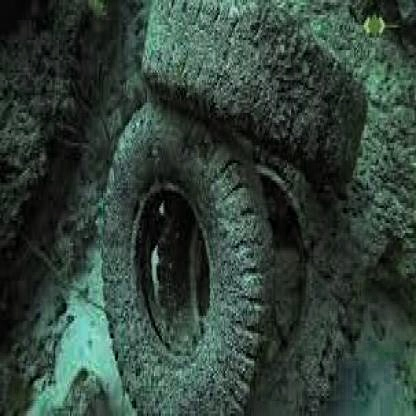tire: (78, 102, 288, 416), (138, 3, 366, 180), (202, 103, 346, 373)
